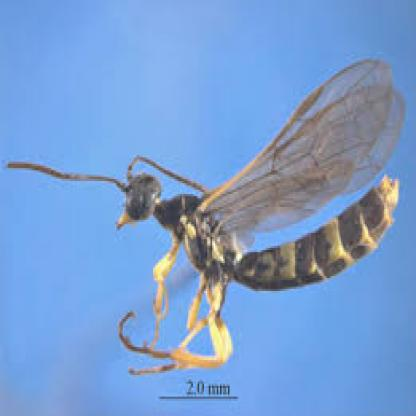sawfly: (10, 58, 404, 373)
